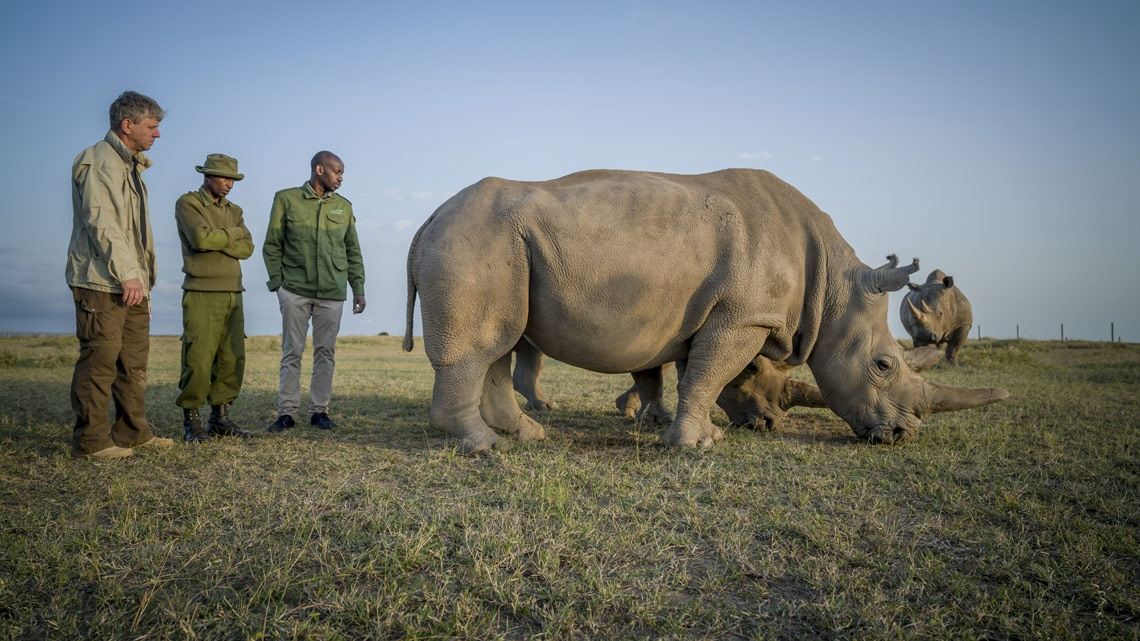rhino: (408, 162, 1009, 454), (892, 264, 978, 373)
